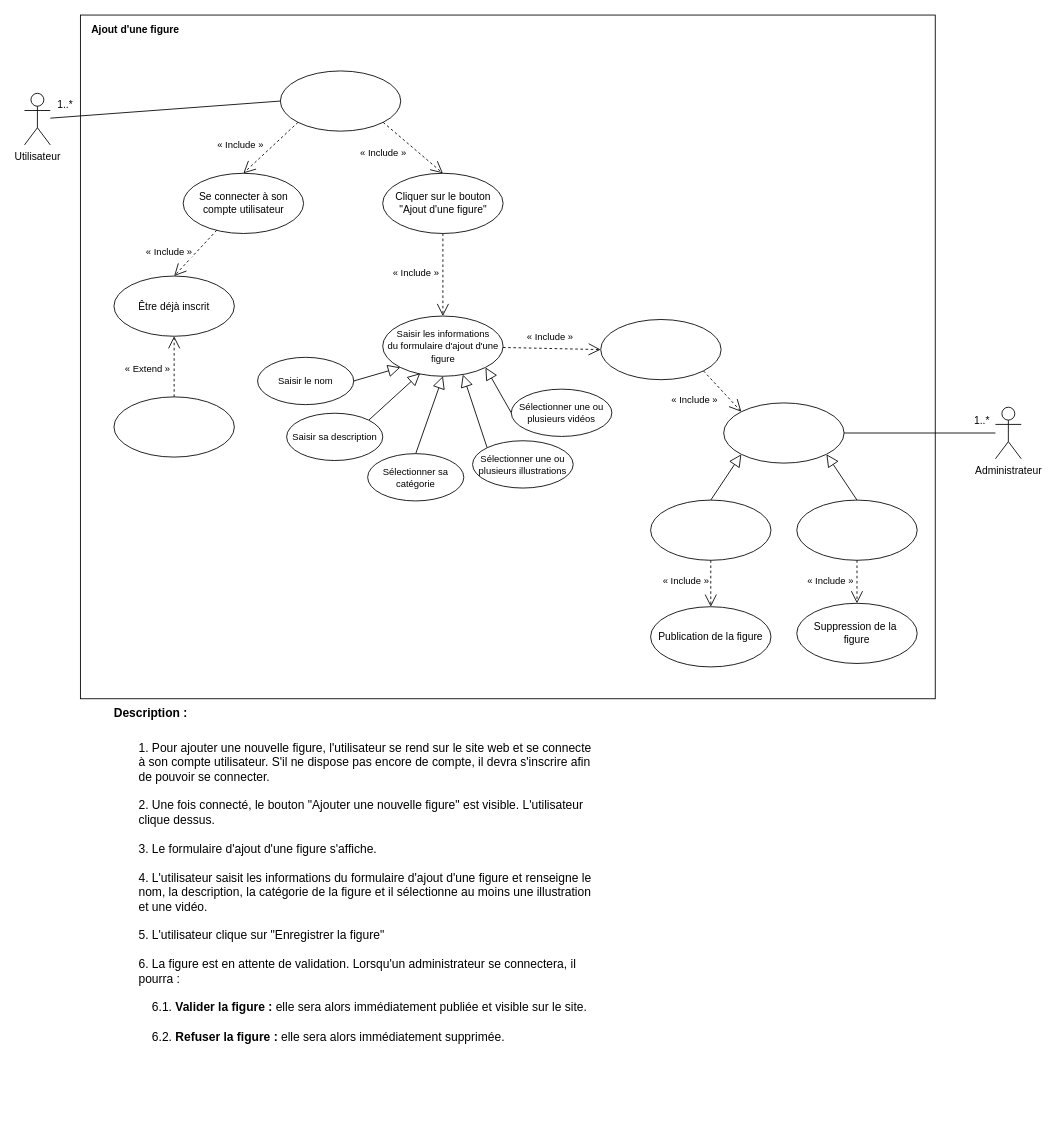
Image size: 1056x1146. Some labels were removed from this diagram. Here are the shapes that lost their labels. From the top down, the centre of each, then its label:
point (340, 100): Ajouter une nouvelle figure à l'annuaire
point (660, 349): Enregistrer la figure
point (173, 426): Créer un compte
point (783, 432): Validation de la figure
point (710, 529): La figure est validée
point (856, 529): La figure n'est pas validée
